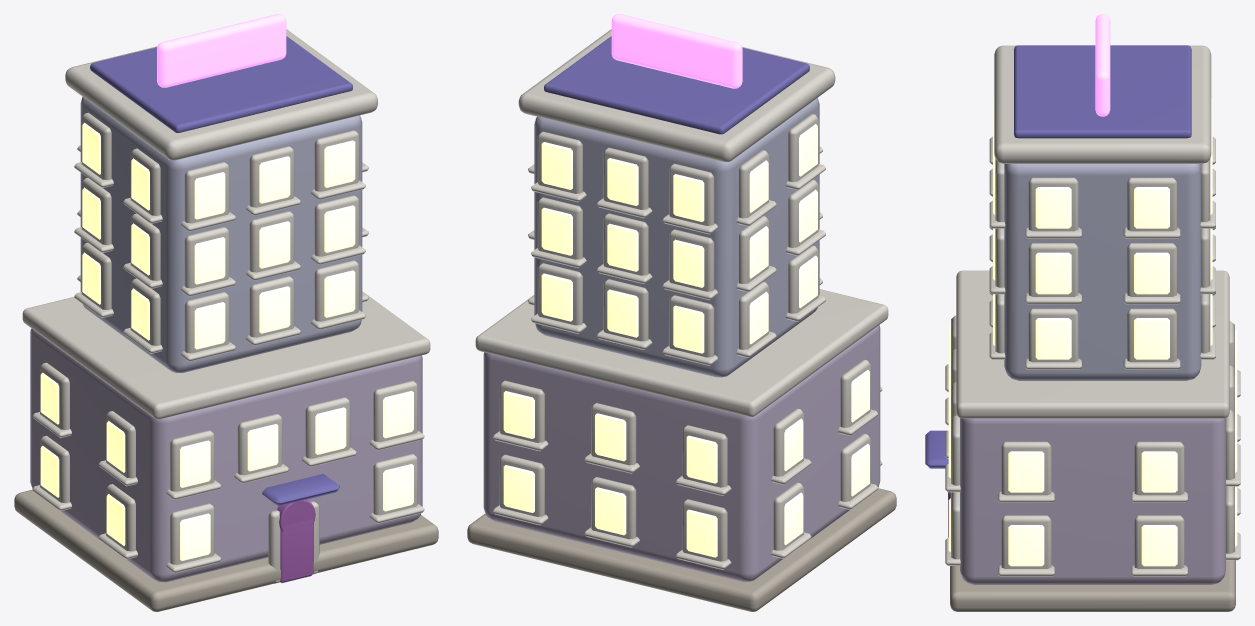
3 views of the same model, side by side, from view 1: azimuth 30°, elevation 25°; view 2: azimuth 150°, elevation 25°; view 3: azimuth 270°, elevation 25° (orthographic).
Visible parts, largest first — view 1: Cube; view 2: Cube; view 3: Cube.
Part boxes in pixels (bbox=[...]): Cube: bbox=[14, 14, 438, 611]; Cube: bbox=[467, 14, 896, 611]; Cube: bbox=[925, 14, 1240, 611].
Size of the model in its own units: 0.699 by 1.12 by 0.6395.
